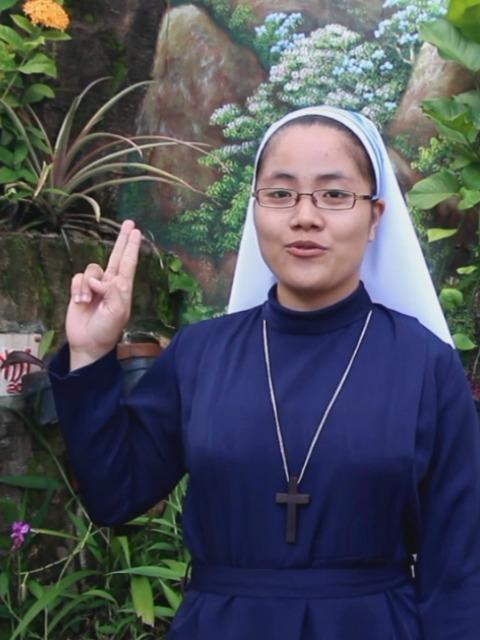U: (58, 211, 144, 351)
